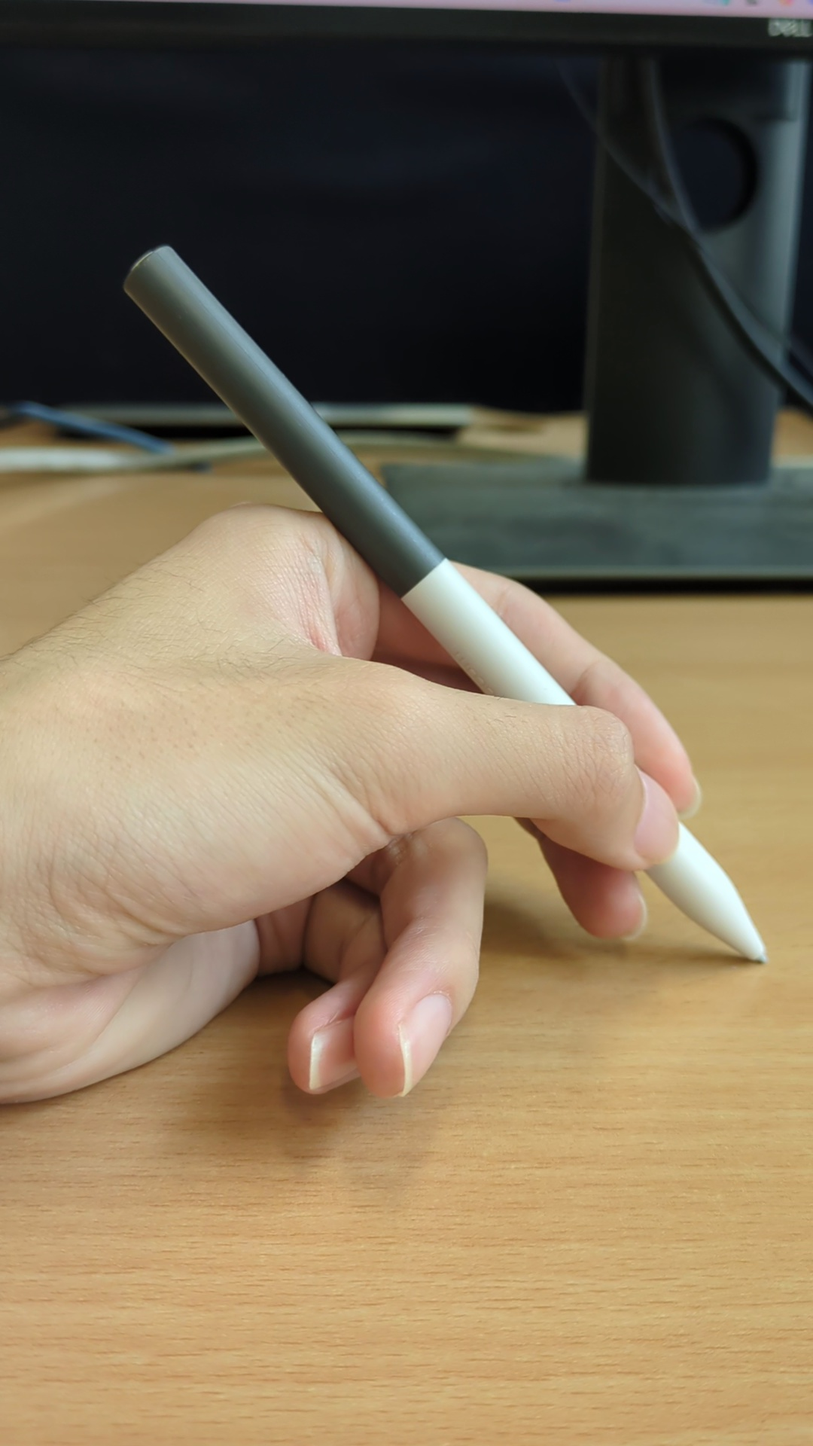pen: (120, 243, 770, 968)
tip: (748, 943, 770, 966)
